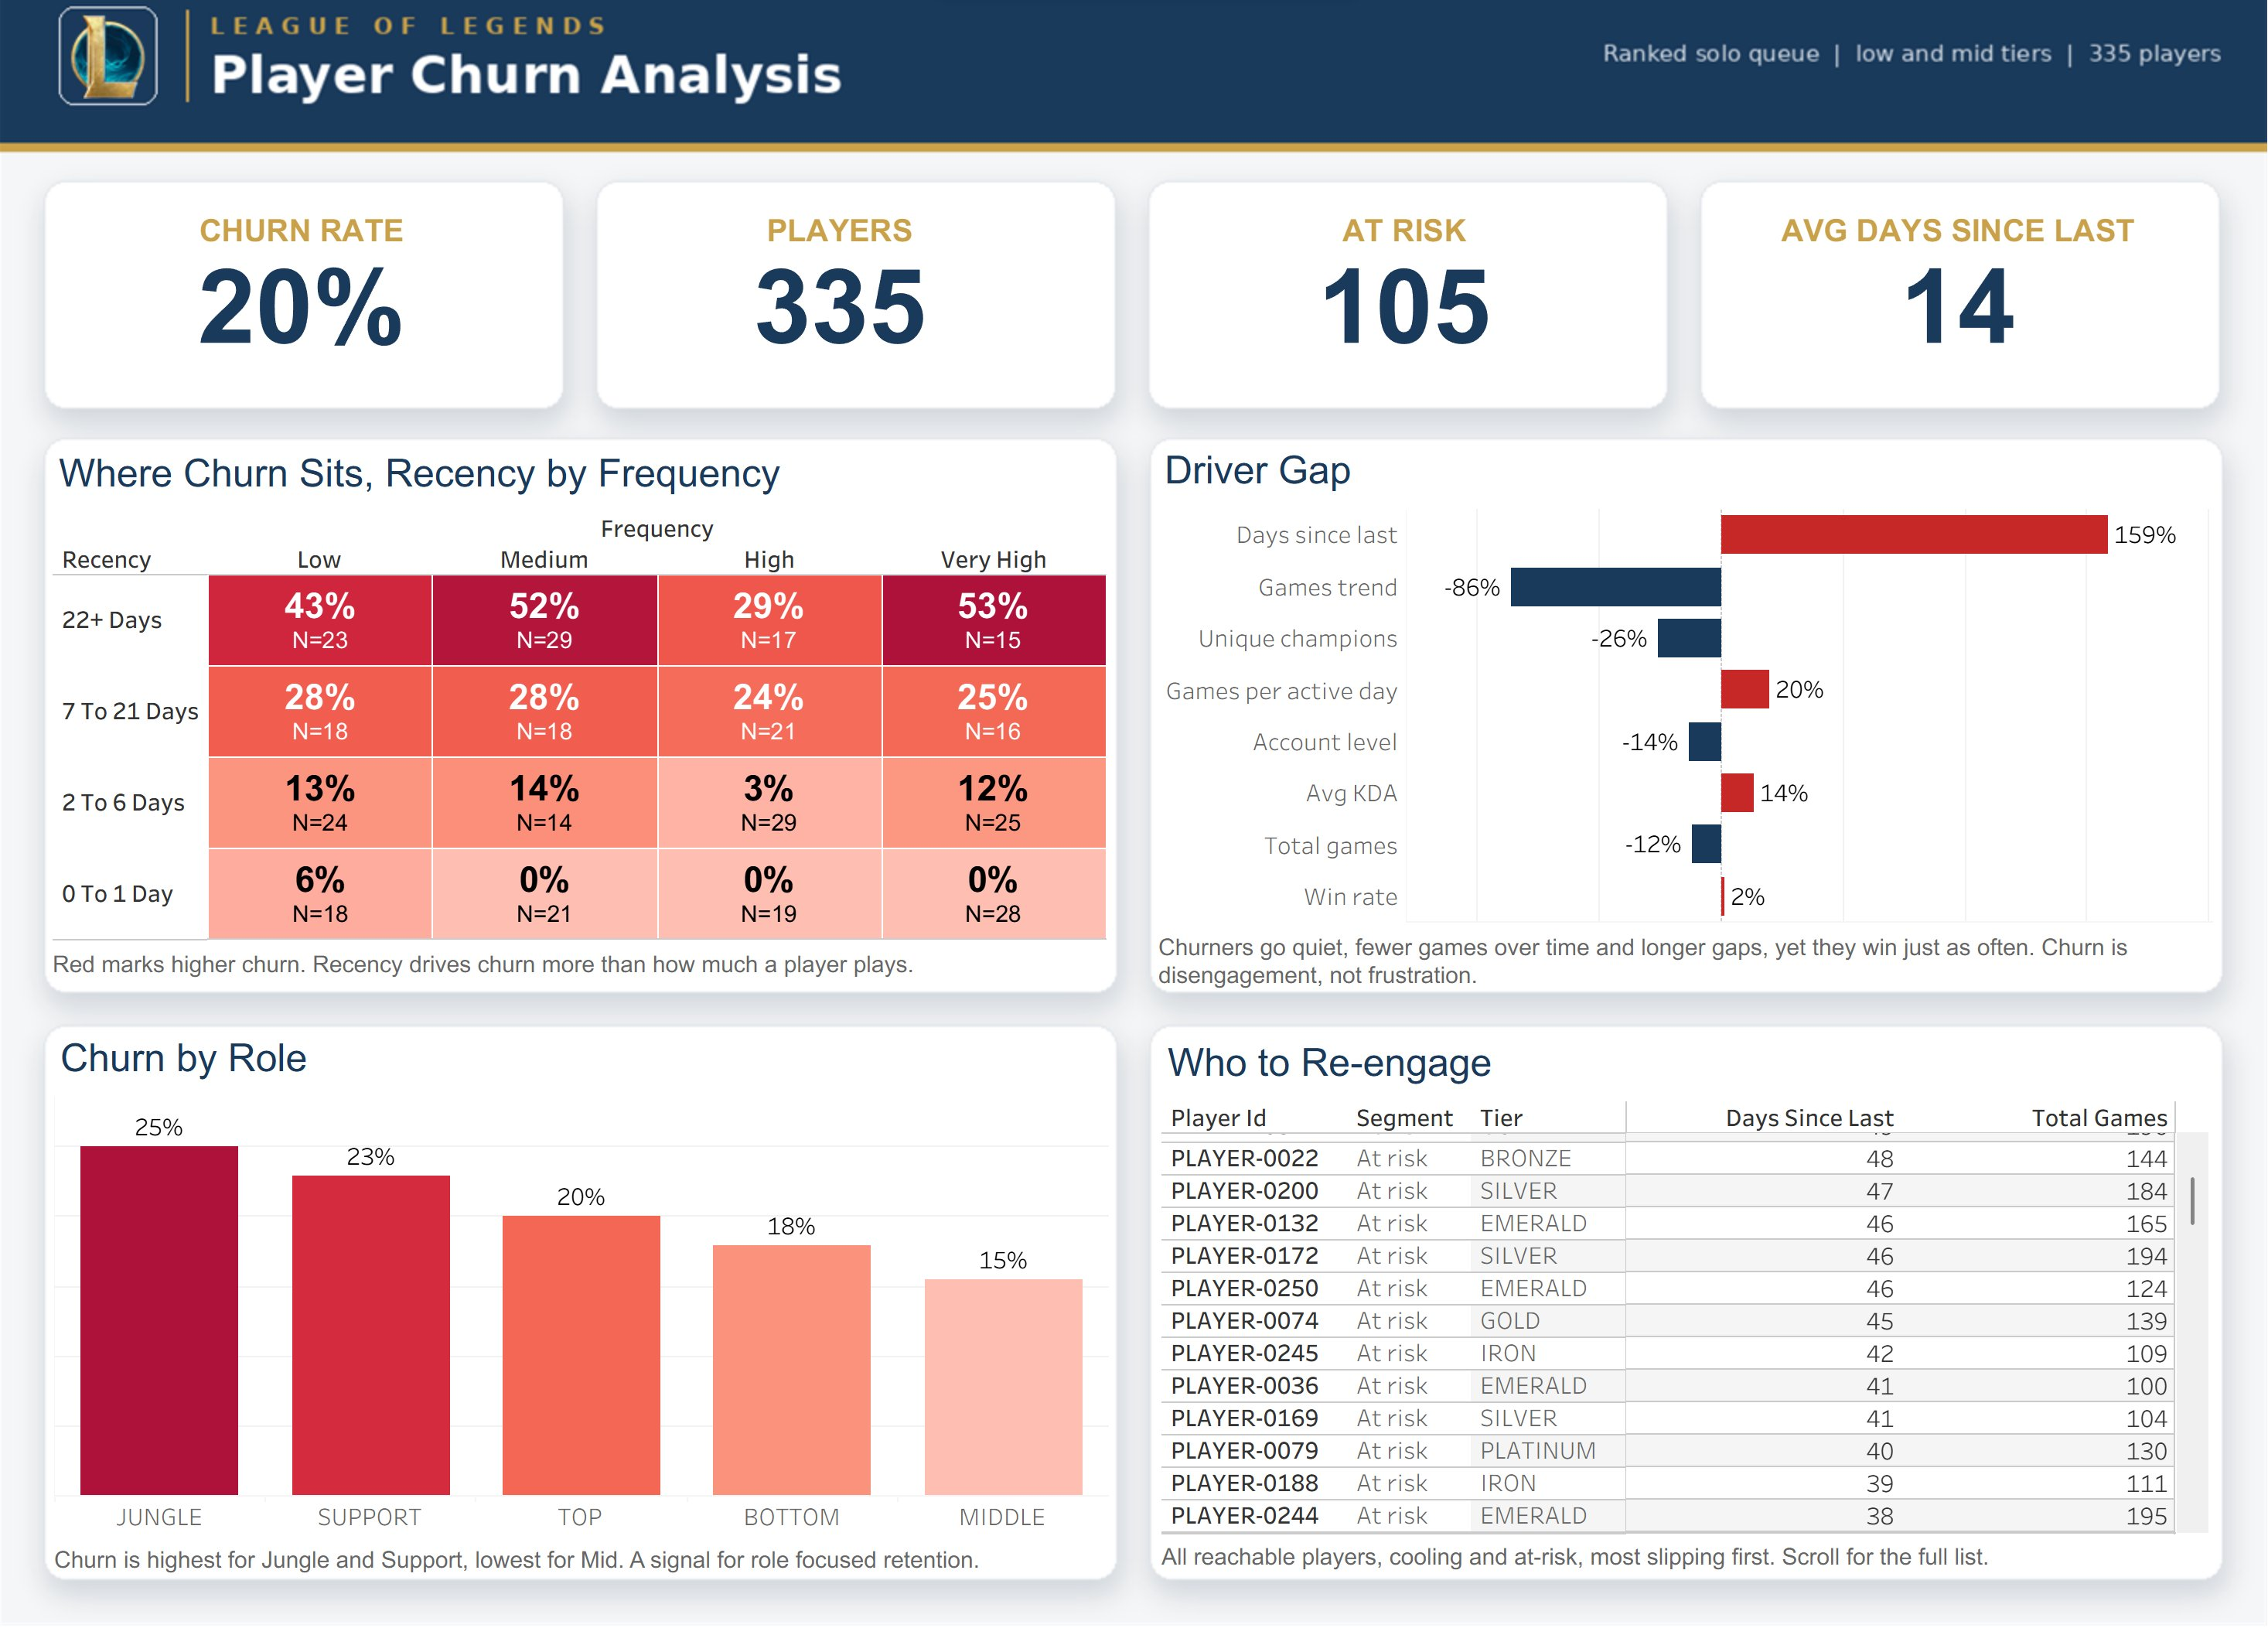

The dashboard page shown, as its layout file describes it:
{"tool":"tableau","page":{"name":"Dashboard 1","canvas":[1500,1100],"ordinal":0},"visuals":[{"type":"image","param":"C:/Users/talja/Downloads/dashboard_frame.png","box":[8,8,1484,1084]},{"type":"image","param":"C:/Users/talja/Downloads/lol_logo_transparent.png","box":[18,45,137,56]},{"type":"worksheet","title":"Churn rate KPI","mark":"Automatic","box":[132,175,178,110]},{"type":"worksheet","title":"Players KPI","mark":"Automatic","box":[500,175,158,99]},{"type":"worksheet","title":"At risk KPI","mark":"Automatic","box":[865,175,122,102]},{"type":"worksheet","title":"Days since KPI","mark":"Automatic","box":[1163,175,252,139]},{"type":"worksheet","title":"Driver Gap","mark":"Automatic","rows":["metric"],"cols":["diff_pct"],"box":[766,323,682,353]},{"type":"worksheet","title":"Heatmap","mark":"Square","rows":["R_score"],"cols":["F_score"],"box":[51,325,682,345]},{"type":"worksheet","title":"Churn by Role","mark":"Automatic","rows":["Calculation_0760593011937280"],"cols":["primary_role"],"box":[52,703,682,351]},{"type":"worksheet","title":"Who to Re-engage","mark":"Automatic","rows":["player_id","segment","tier"],"box":[768,706,677,348]}]}

Visuals, with their boxes in screenshot pixels (x1, y1, x2, y2), scaled from the page's 1500x1100 canvas onto the 2268x1635 screenshot:
image: [x1=12, y1=12, x2=2256, y2=1623]
image: [x1=27, y1=67, x2=234, y2=150]
"Churn rate KPI" worksheet: [x1=200, y1=260, x2=469, y2=424]
"Players KPI" worksheet: [x1=756, y1=260, x2=995, y2=408]
"At risk KPI" worksheet: [x1=1308, y1=260, x2=1492, y2=411]
"Days since KPI" worksheet: [x1=1758, y1=260, x2=2140, y2=466]
"Driver Gap" worksheet: [x1=1158, y1=480, x2=2189, y2=1005]
"Heatmap" worksheet (Square marks): [x1=77, y1=483, x2=1108, y2=996]
"Churn by Role" worksheet: [x1=79, y1=1045, x2=1110, y2=1567]
"Who to Re-engage" worksheet: [x1=1161, y1=1050, x2=2184, y2=1567]
